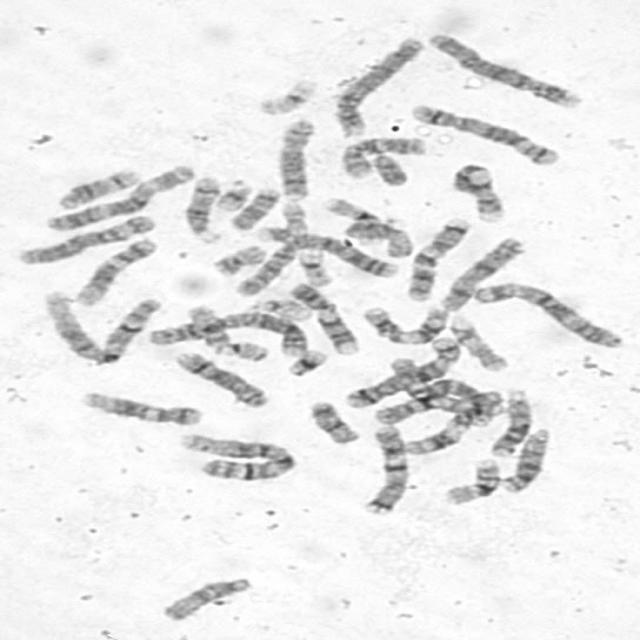A1: (40, 288, 164, 365), (174, 429, 299, 482)
A2: (227, 232, 401, 296), (140, 307, 311, 358)
A3: (41, 159, 199, 233), (469, 280, 625, 350)
B4: (424, 30, 584, 110), (328, 34, 425, 138)
B5: (406, 100, 562, 168), (338, 334, 464, 410)
C10: (369, 378, 502, 427), (336, 133, 429, 180)
C11: (398, 386, 502, 456), (360, 302, 449, 346)
C12: (69, 234, 159, 308), (75, 388, 205, 427)
C6: (387, 353, 500, 427), (15, 211, 158, 266)
C7: (400, 214, 474, 303), (359, 423, 409, 518)
C8: (168, 347, 271, 409), (274, 116, 318, 203)
C9: (287, 280, 361, 356), (447, 160, 508, 223)
D13: (496, 426, 552, 494), (485, 386, 534, 458)
D14: (52, 165, 144, 211), (180, 173, 225, 244)
D15: (157, 573, 256, 623), (339, 218, 415, 258)
E16: (319, 193, 387, 243), (438, 456, 503, 506)
E17: (444, 313, 510, 372), (252, 197, 310, 243)
E18: (304, 398, 364, 446), (226, 186, 281, 232)
F19: (253, 76, 321, 117), (296, 245, 336, 288)
F20: (182, 302, 232, 350), (208, 242, 267, 278)
G21: (282, 345, 330, 378), (212, 176, 254, 213)
G22: (248, 296, 314, 322), (213, 339, 271, 362)
X: (434, 234, 526, 314)
Y: (367, 151, 409, 187)
